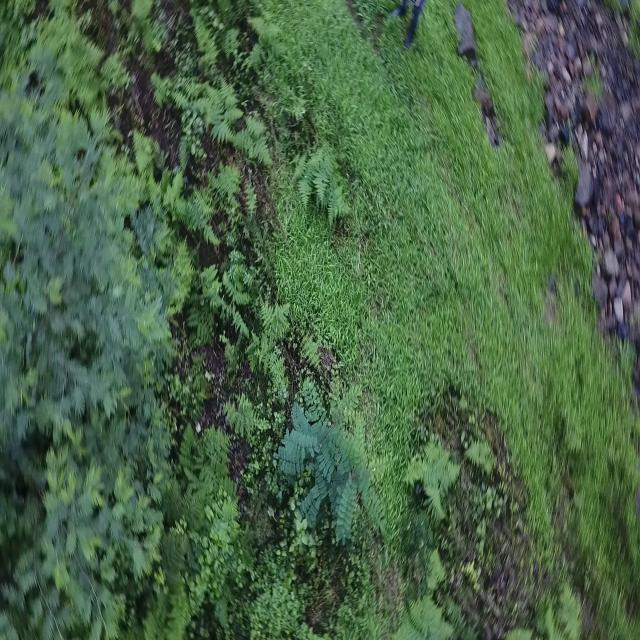Mysore-Thorn-Weed: (272, 354, 388, 527)
